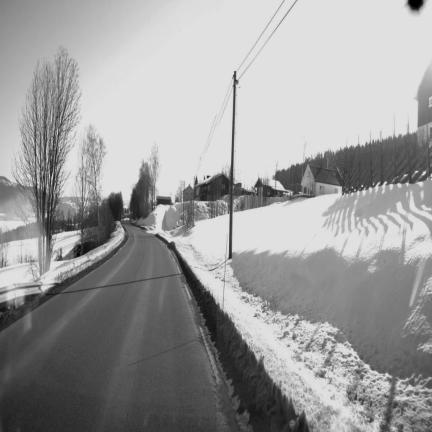Road: (0, 224, 237, 431)
